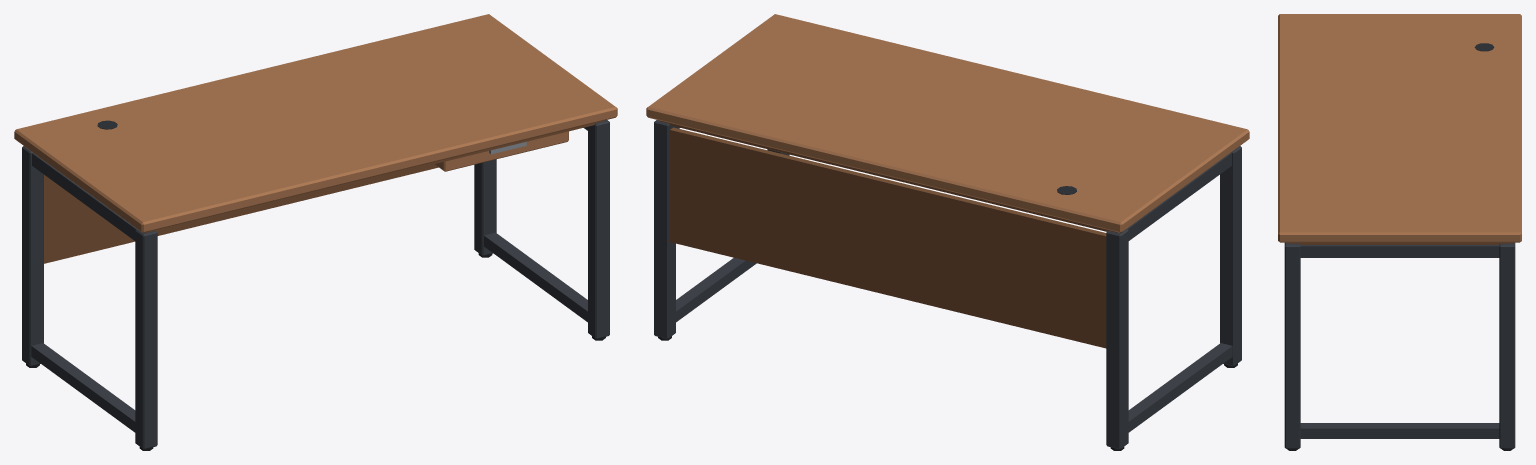
Rendered from desk.glb.
3 views of the same model, side by side, from view 1: azimuth 30°, elevation 25°; view 2: azimuth 150°, elevation 25°; view 3: azimuth 270°, elevation 25° (orthographic). The views are drawn at different scales.
Visible parts, largest first — view 1: Desk; view 2: Desk; view 3: Desk.
Boxes of the visible parts, left/top/right/bottom form: Desk: left=14, top=14, right=617, bottom=450; Desk: left=646, top=14, right=1249, bottom=450; Desk: left=1278, top=14, right=1521, bottom=450.
Size of the model in its own units: 1.6 by 0.7515 by 0.75.
